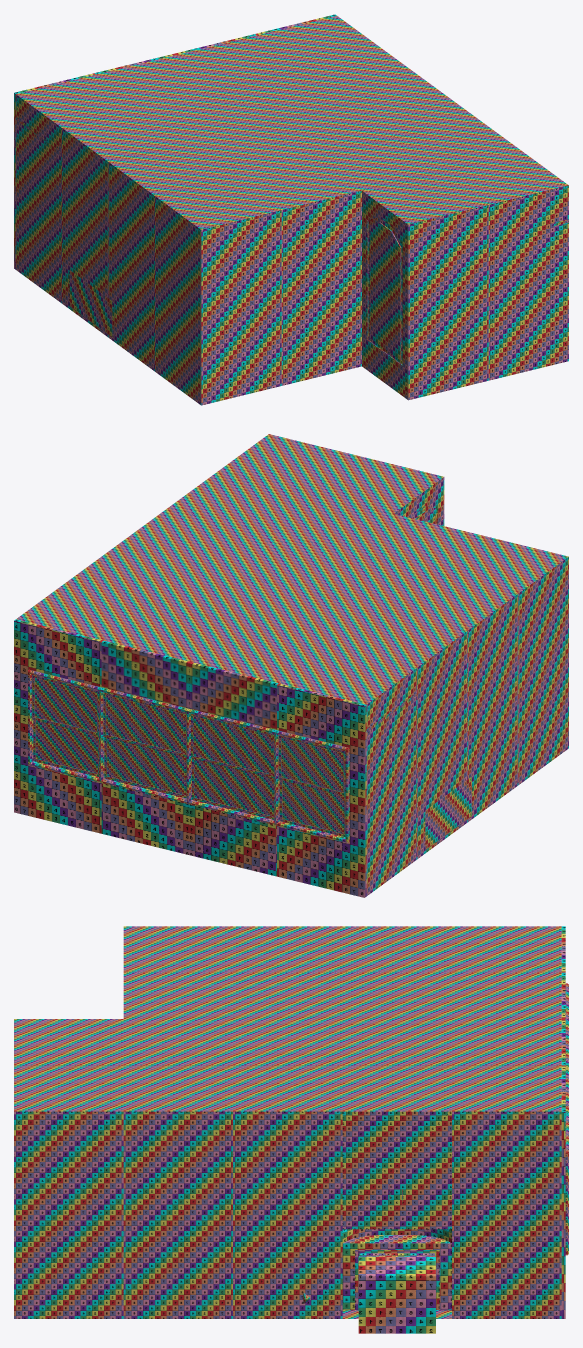
Rendered from witch hut non interactables.fbx.
The picture shows the model from 3 angles, top to bottom: view 1: azimuth 30°, elevation 25°; view 2: azimuth 150°, elevation 25°; view 3: azimuth 270°, elevation 25°; orthographic projection. The views are drawn at different scales.
Parts seen in each view (by area): view 1: prop_handle17, pCube933, pCylinder230; view 2: prop_handle17, pCube933, pPlane97, pPlane100, pPlane98, pPlane99, pPlane96, pPlane101, pPlane95, pPlane102, pCylinder230; view 3: prop_handle17, pCube933.
Boxes of the visible parts, bbox=[...] form: prop_handle17: bbox=[14, 14, 568, 405]; pCube933: bbox=[16, 16, 568, 229]; pCylinder230: bbox=[69, 270, 112, 336]; prop_handle17: bbox=[14, 477, 568, 897]; pCube933: bbox=[16, 434, 568, 704]; pPlane97: bbox=[191, 713, 274, 778]; pPlane100: bbox=[103, 692, 186, 756]; pPlane98: bbox=[192, 758, 274, 819]; pPlane99: bbox=[104, 737, 186, 798]; pPlane96: bbox=[278, 735, 345, 795]; pPlane101: bbox=[32, 675, 98, 735]; pPlane95: bbox=[279, 780, 345, 836]; pPlane102: bbox=[33, 719, 98, 776]; pCylinder230: bbox=[425, 776, 471, 849]; prop_handle17: bbox=[14, 926, 568, 1333]; pCube933: bbox=[14, 926, 561, 1111].
Bounding box in the file's own units: 5795 × 2721 × 6588.
